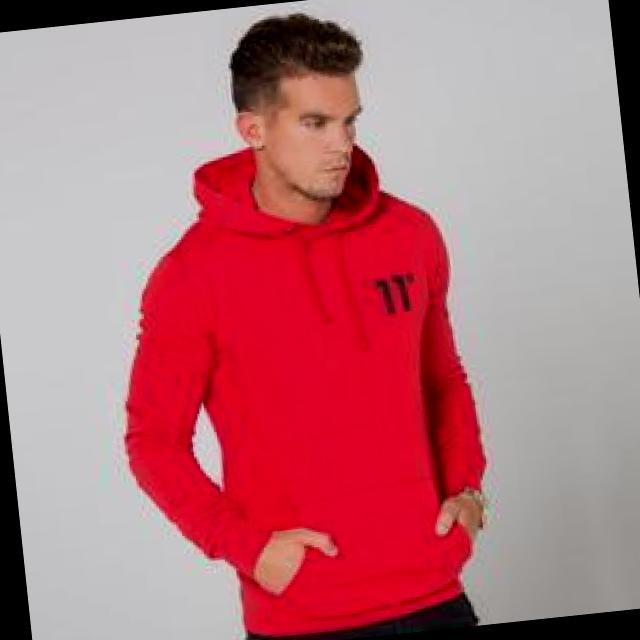sweater: (95, 120, 503, 640)
